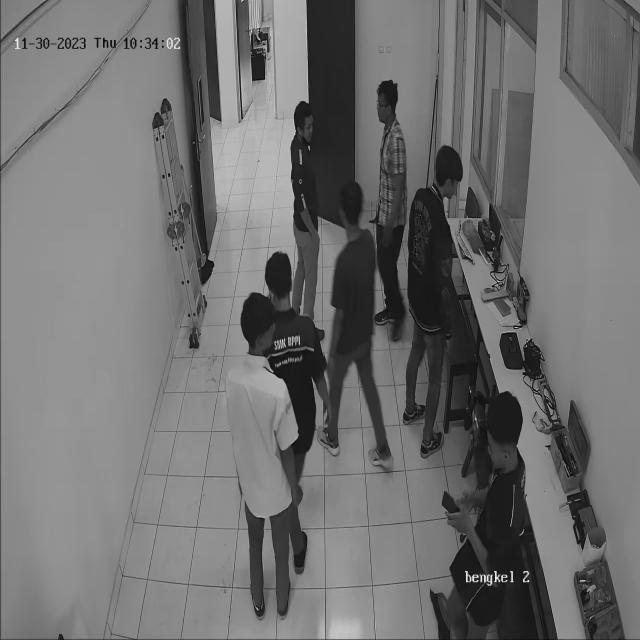person: (398, 122, 472, 457), (329, 174, 393, 511), (261, 226, 320, 571), (241, 274, 292, 624), (282, 93, 318, 390), (367, 69, 401, 318)
